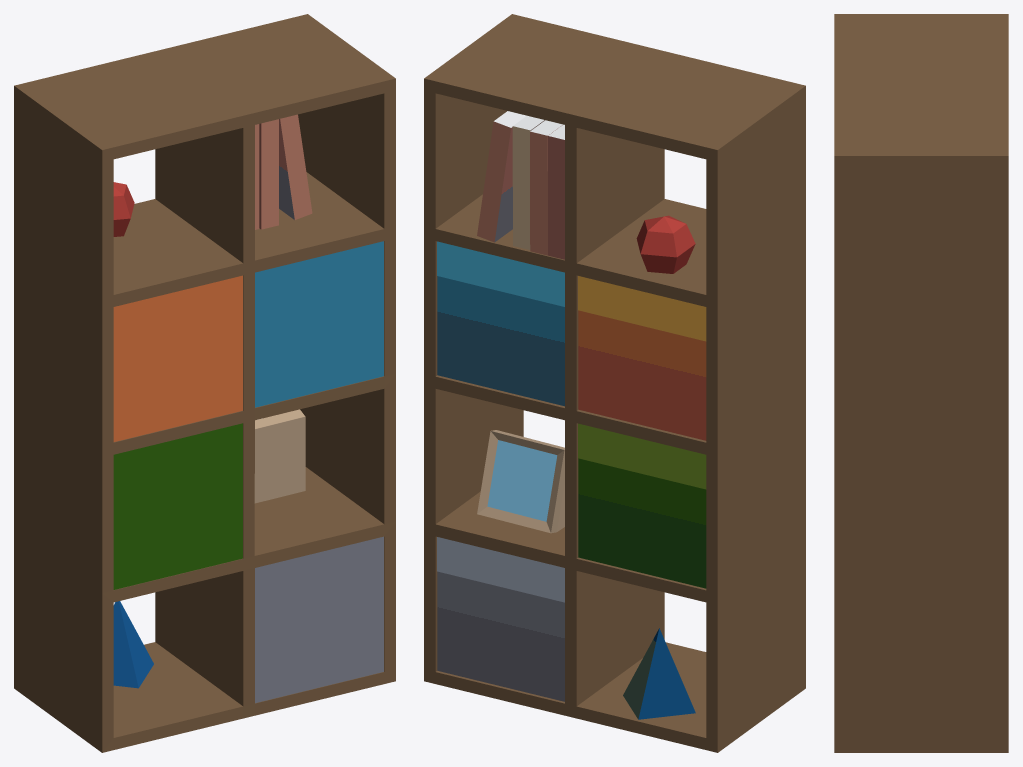
File: Accesories_Cubes_8.glb
3 renders of one model, left to right at view 1: azimuth 30°, elevation 25°; view 2: azimuth 150°, elevation 25°; view 3: azimuth 270°, elevation 25°, orthographic.
Visible parts, largest first — view 1: Accesories_Cubes_8; view 2: Accesories_Cubes_8; view 3: Accesories_Cubes_8.
Part boxes in pixels (bbox=[...]): Accesories_Cubes_8: bbox=[14, 14, 395, 752]; Accesories_Cubes_8: bbox=[424, 14, 805, 752]; Accesories_Cubes_8: bbox=[834, 14, 1008, 752].
Size of the model in its own units: 0.7949 by 1.56 by 0.413.
Materials: 1 (1 with a texture image).
